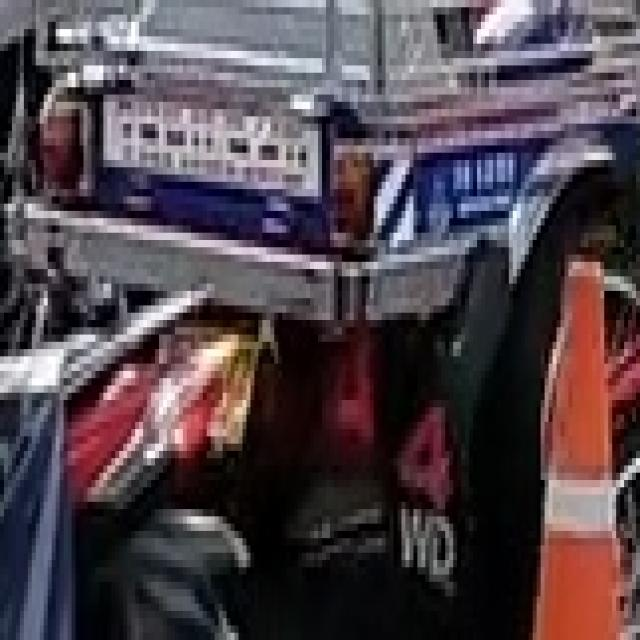door: (529, 247, 620, 633)
helmet: (36, 66, 95, 196)
